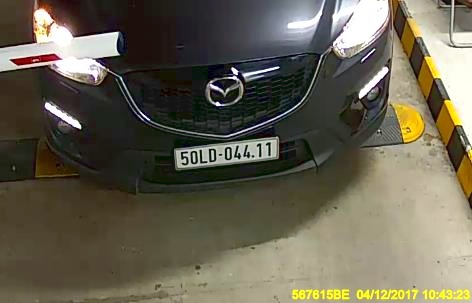plate: (176, 136, 279, 167)
